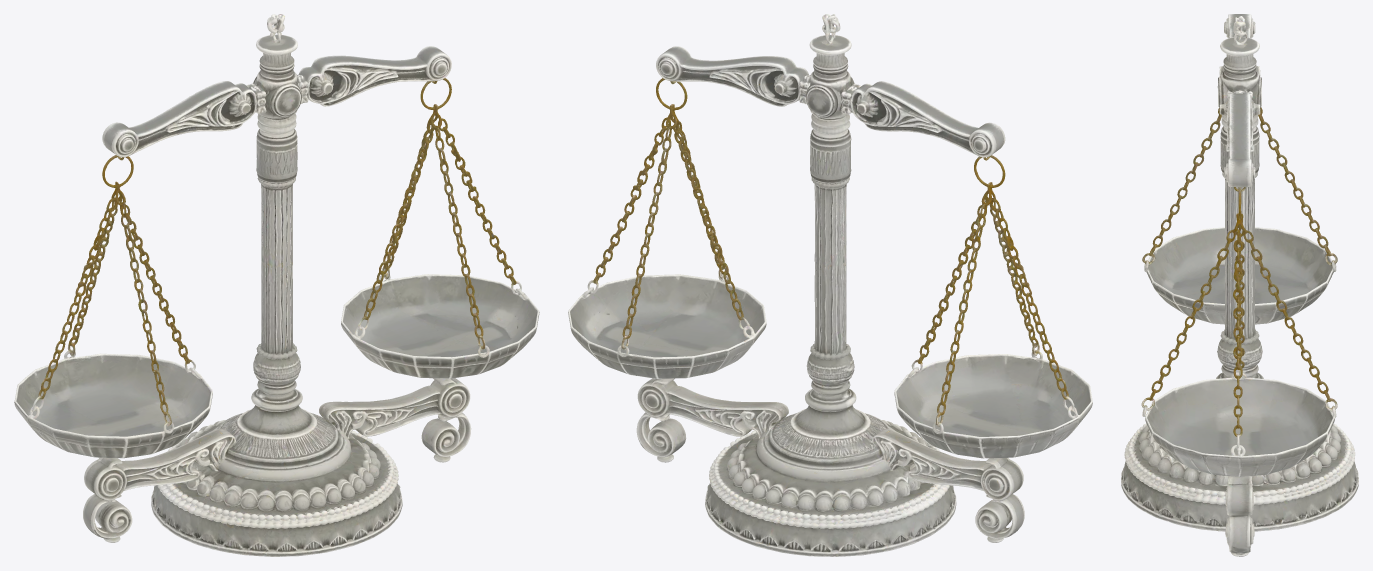
File: 3D_balance_small.glb
3 renders of one model, left to right at view 1: azimuth 30°, elevation 25°; view 2: azimuth 150°, elevation 25°; view 3: azimuth 270°, elevation 25°, orthographic. The views are drawn at different scales.
Size of the model in its own units: 1.9 by 1.78 by 0.8271.
1 material, 1 textured.
